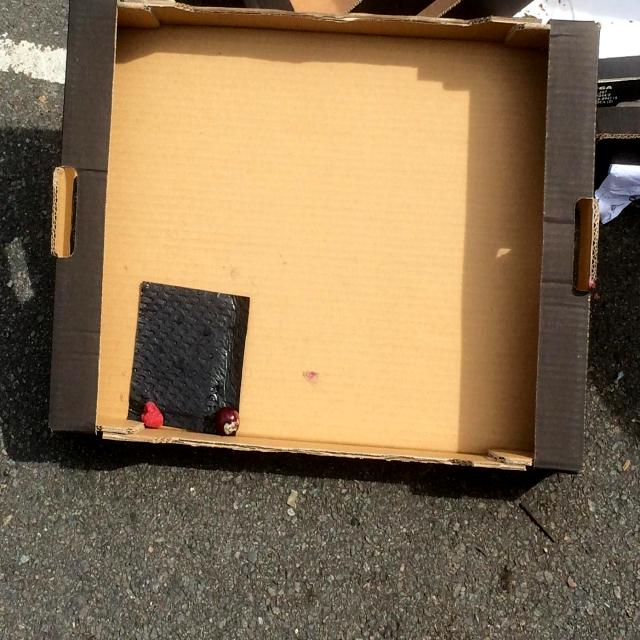Cardboard: (46, 0, 600, 484)
